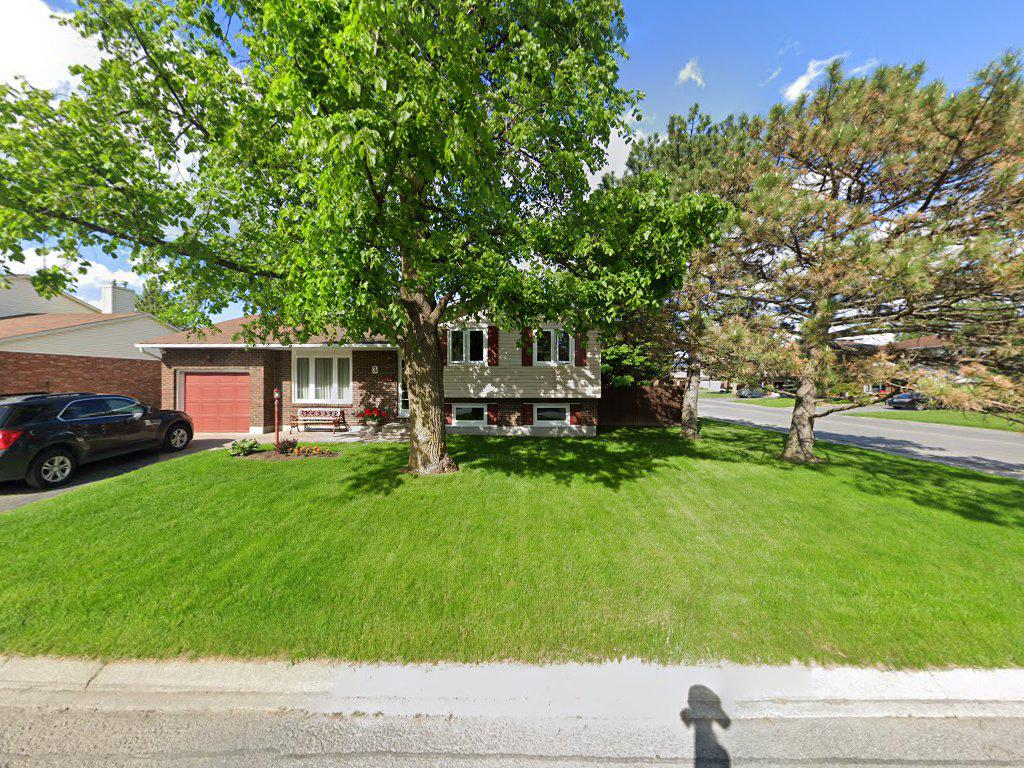trunk: (392, 300, 454, 494), (786, 369, 825, 485)
